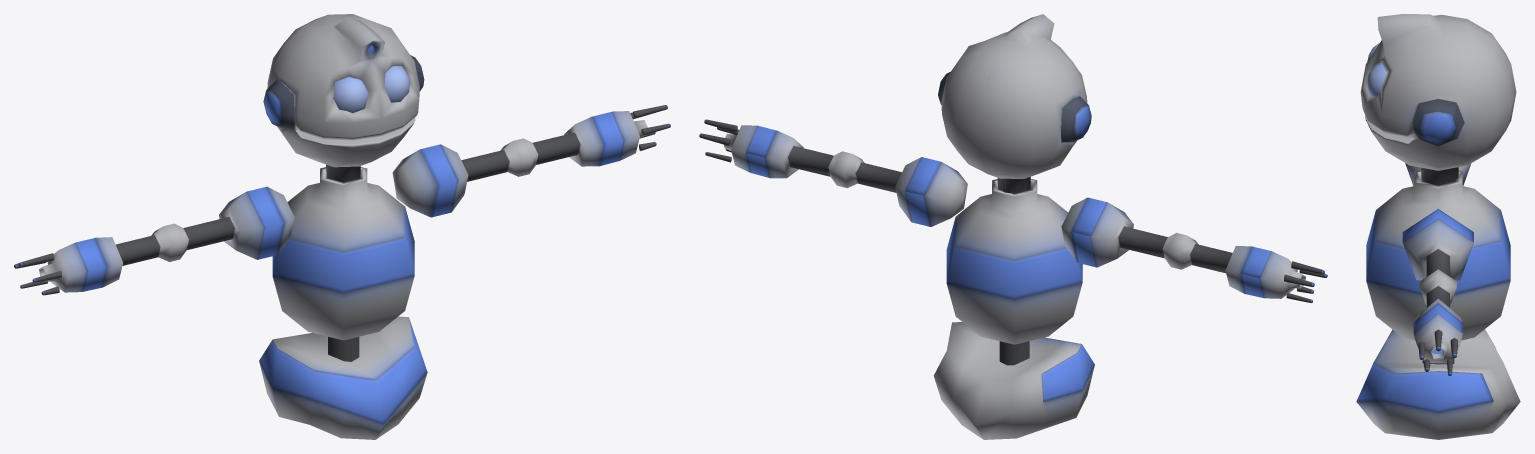
The model's file is Export_Tex_NanoRoboth_001.fbx.
3 views of the same model, side by side, from view 1: azimuth 30°, elevation 25°; view 2: azimuth 150°, elevation 25°; view 3: azimuth 270°, elevation 25° (orthographic). The views are drawn at different scales.
Parts seen in each view (by area): view 1: Torso2; view 2: Torso2; view 3: Torso2.
Boxes of the visible parts, x1=… form: Torso2: x1=14, y1=14, x2=670, y2=439; Torso2: x1=699, y1=14, x2=1327, y2=439; Torso2: x1=1356, y1=14, x2=1520, y2=439.
Bounding box in the file's own units: 17.86 × 10.61 × 3.86.
1 material, 1 textured.
